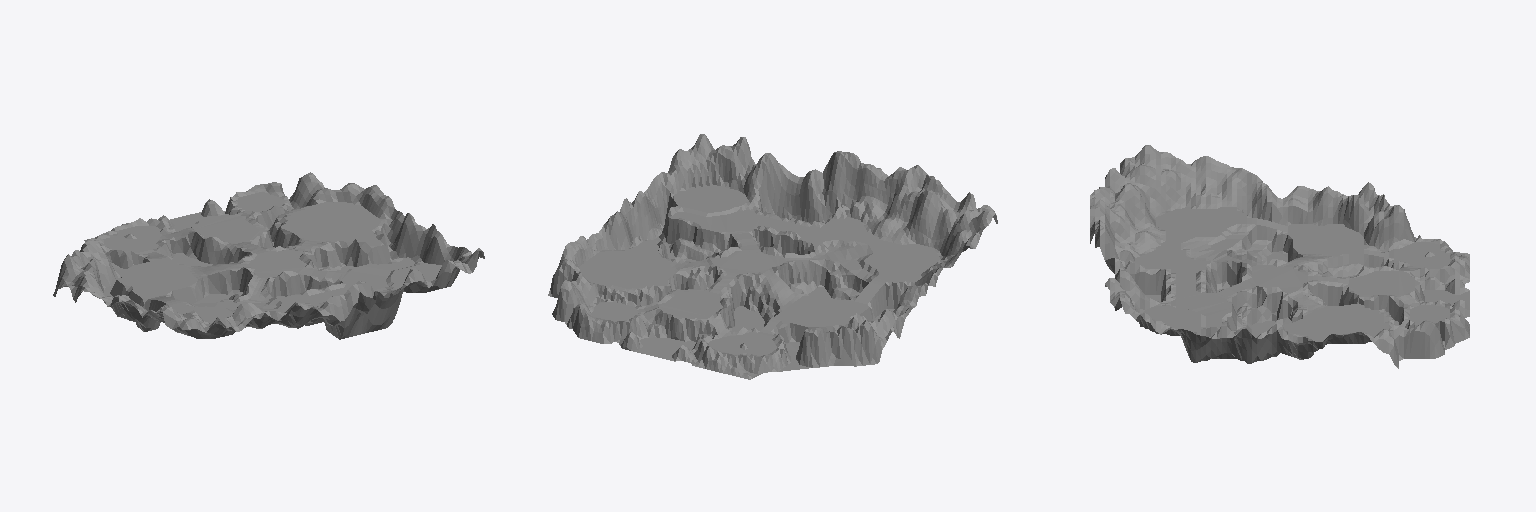
File: DBXJ.obj
The picture shows the model from 3 angles: view 1: azimuth 30°, elevation 25°; view 2: azimuth 150°, elevation 25°; view 3: azimuth 270°, elevation 25°; orthographic projection.
Visible parts, largest first — view 1: DBXJ_Terrain_05, DBXJ_Terrain_06, DBXJ_Terrain_09, DBXJ_Terrain_02, DBXJ_Terrain_08, DBXJ_Terrain_04, DBXJ_Terrain_01, DBXJ_Terrain_07, DBXJ_Terrain_03; view 2: DBXJ_Terrain_05, DBXJ_Terrain_06, DBXJ_Terrain_04, DBXJ_Terrain_01, DBXJ_Terrain_09, DBXJ_Terrain_08, DBXJ_Terrain_03, DBXJ_Terrain_02, DBXJ_Terrain_07; view 3: DBXJ_Terrain_05, DBXJ_Terrain_06, DBXJ_Terrain_04, DBXJ_Terrain_01, DBXJ_Terrain_08, DBXJ_Terrain_02, DBXJ_Terrain_03, DBXJ_Terrain_09, DBXJ_Terrain_07.
Boxes of the visible parts, x1=… form: DBXJ_Terrain_05: x1=115, y1=212, x2=484, y2=339; DBXJ_Terrain_06: x1=53, y1=172, x2=399, y2=331; DBXJ_Terrain_09: x1=273, y1=202, x2=390, y2=269; DBXJ_Terrain_02: x1=184, y1=182, x2=290, y2=264; DBXJ_Terrain_08: x1=117, y1=254, x2=250, y2=302; DBXJ_Terrain_04: x1=143, y1=273, x2=338, y2=338; DBXJ_Terrain_01: x1=298, y1=255, x2=441, y2=304; DBXJ_Terrain_07: x1=95, y1=218, x2=189, y2=264; DBXJ_Terrain_03: x1=219, y1=239, x2=315, y2=295; DBXJ_Terrain_05: x1=591, y1=134, x2=997, y2=286; DBXJ_Terrain_06: x1=548, y1=236, x2=937, y2=379; DBXJ_Terrain_04: x1=778, y1=198, x2=959, y2=317; DBXJ_Terrain_01: x1=657, y1=169, x2=813, y2=260; DBXJ_Terrain_09: x1=579, y1=237, x2=700, y2=300; DBXJ_Terrain_08: x1=755, y1=264, x2=868, y2=342; DBXJ_Terrain_03: x1=685, y1=246, x2=783, y2=315; DBXJ_Terrain_02: x1=575, y1=289, x2=734, y2=333; DBXJ_Terrain_07: x1=698, y1=319, x2=786, y2=371; DBXJ_Terrain_05: x1=1090, y1=145, x2=1312, y2=363; DBXJ_Terrain_06: x1=1217, y1=173, x2=1469, y2=368; DBXJ_Terrain_04: x1=1135, y1=183, x2=1287, y2=294; DBXJ_Terrain_01: x1=1135, y1=270, x2=1266, y2=336; DBXJ_Terrain_08: x1=1288, y1=224, x2=1378, y2=277; DBXJ_Terrain_02: x1=1349, y1=266, x2=1459, y2=328; DBXJ_Terrain_03: x1=1240, y1=259, x2=1348, y2=320; DBXJ_Terrain_09: x1=1274, y1=299, x2=1388, y2=343; DBXJ_Terrain_07: x1=1379, y1=235, x2=1459, y2=283.
Size of the model in its own units: 192 by 40.84 by 197.